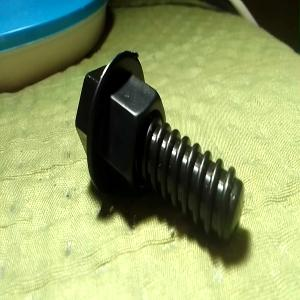parafuso: (75, 49, 245, 242)
